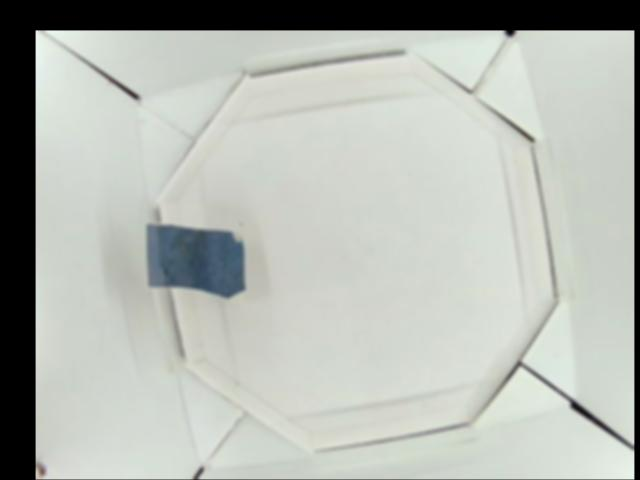China: (144, 223, 245, 300)
